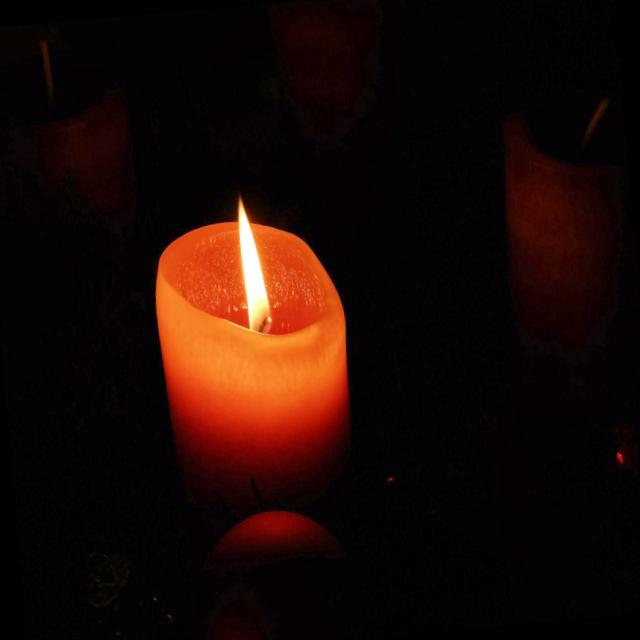Fire_Save: (145, 184, 361, 511)
